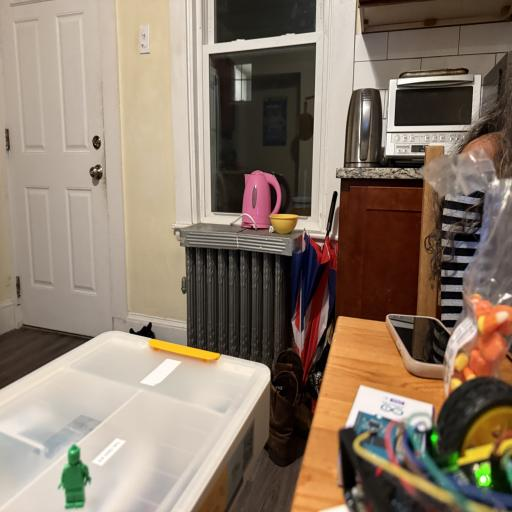Minifig: (58, 444, 91, 509)
